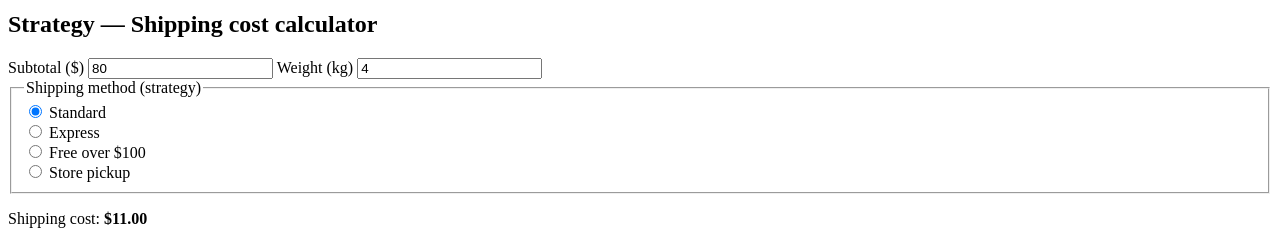
<StrategyDemo /> › applies free shipping once the subtotal reaches the threshold
Click the radio button labelled "Free over $100" at (36, 152), box [29, 145, 42, 158]
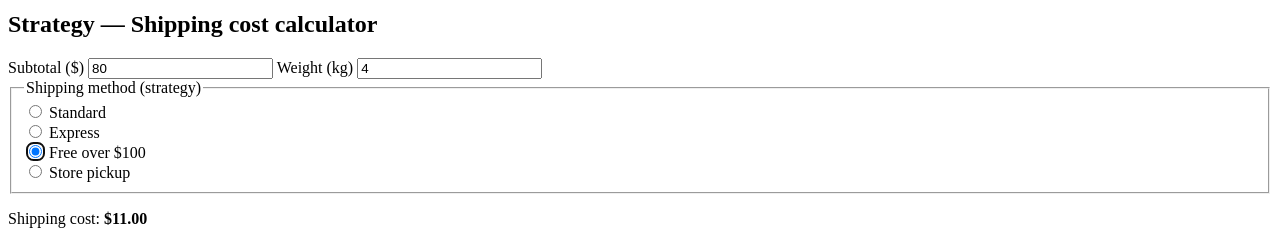
Replace the text in the number field labelled "Subtotal ($)" with "150" at (180, 68), box [88, 58, 273, 79]
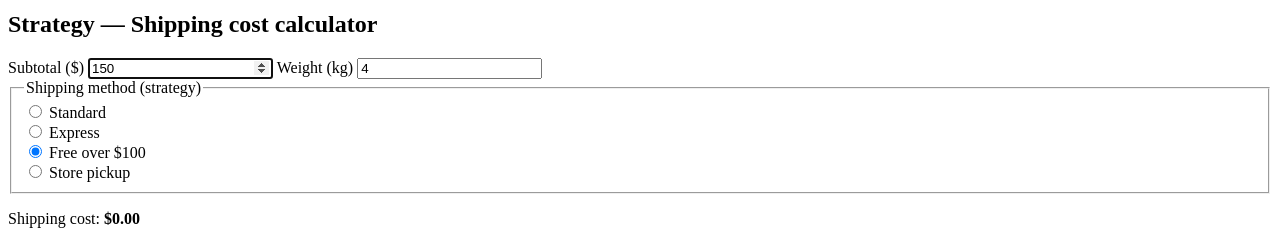
Expected: the text "$0.00" is shown, [104, 210, 140, 227]
